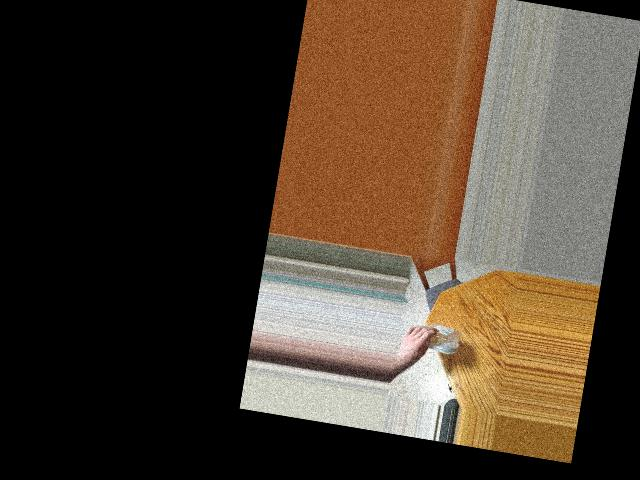cheese: (410, 318, 456, 358)
